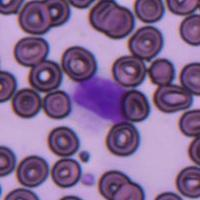M: (71, 72, 130, 125)
